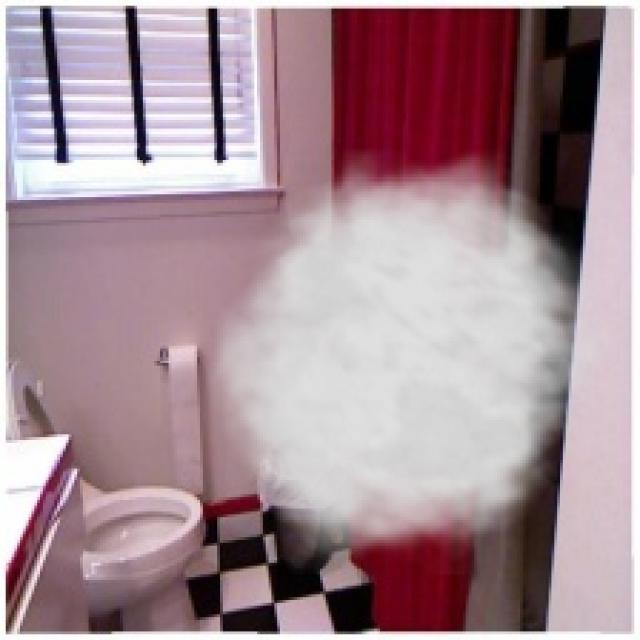smoke: (200, 149, 620, 574)
